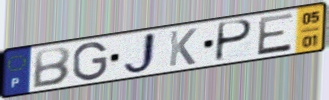B: (30, 45, 73, 90)
E: (255, 11, 296, 57)
G: (71, 40, 109, 83)
J: (121, 30, 159, 76)
K: (167, 27, 199, 69)
P: (212, 19, 255, 64)
